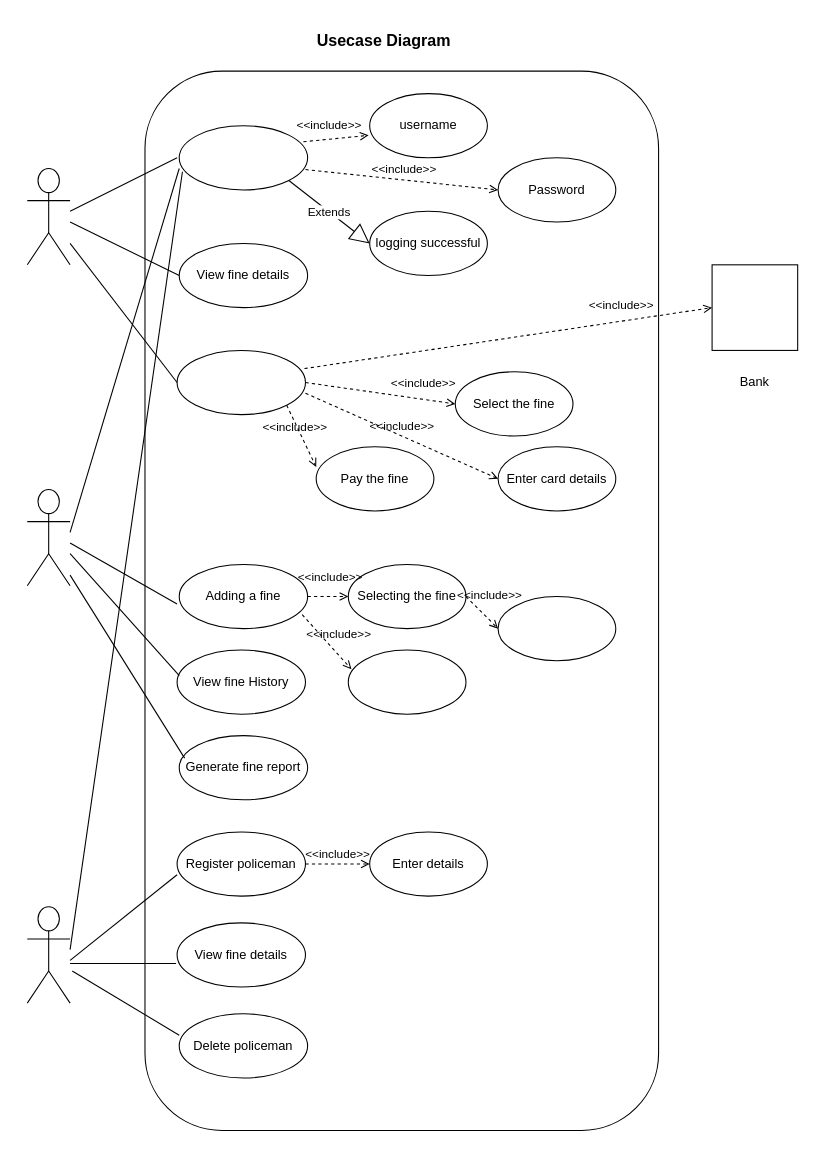
The diagram is 816 pixels wide and 1149 high, and some of its shapes have lost their labels. The centre of each missing label's shape, as x and y in pixels:
"Admin" belongs at pixel 48 954.
"Driver" belongs at pixel 48 216.
"Filling form" belongs at pixel 556 628.
"Login" belongs at pixel 243 157.
"Make Payment" belongs at pixel 240 382.
"Policeman" belongs at pixel 48 537.
"Submit" belongs at pixel 406 681.
